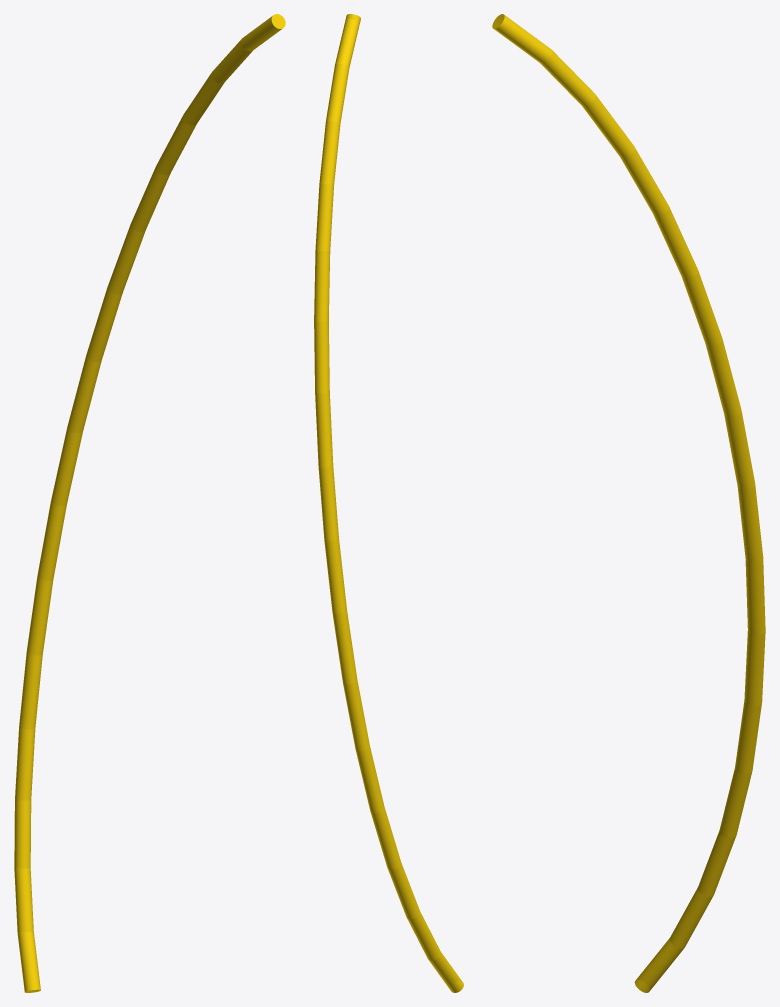
Rendered from Event_420107950_track_14.fbx.
3 views of the same model, side by side, from view 1: azimuth 30°, elevation 25°; view 2: azimuth 150°, elevation 25°; view 3: azimuth 270°, elevation 25° (orthographic). The views are drawn at different scales.
Visible parts, largest first — view 1: Model; view 2: Model; view 3: Model.
Boxes of the visible parts, x1,y1,x2,y2 form: Model: (14,14,285,992); Model: (314,14,463,992); Model: (492,14,765,992).
Size of the model in its own units: 0.5459 by 2.65 by 0.6129.
